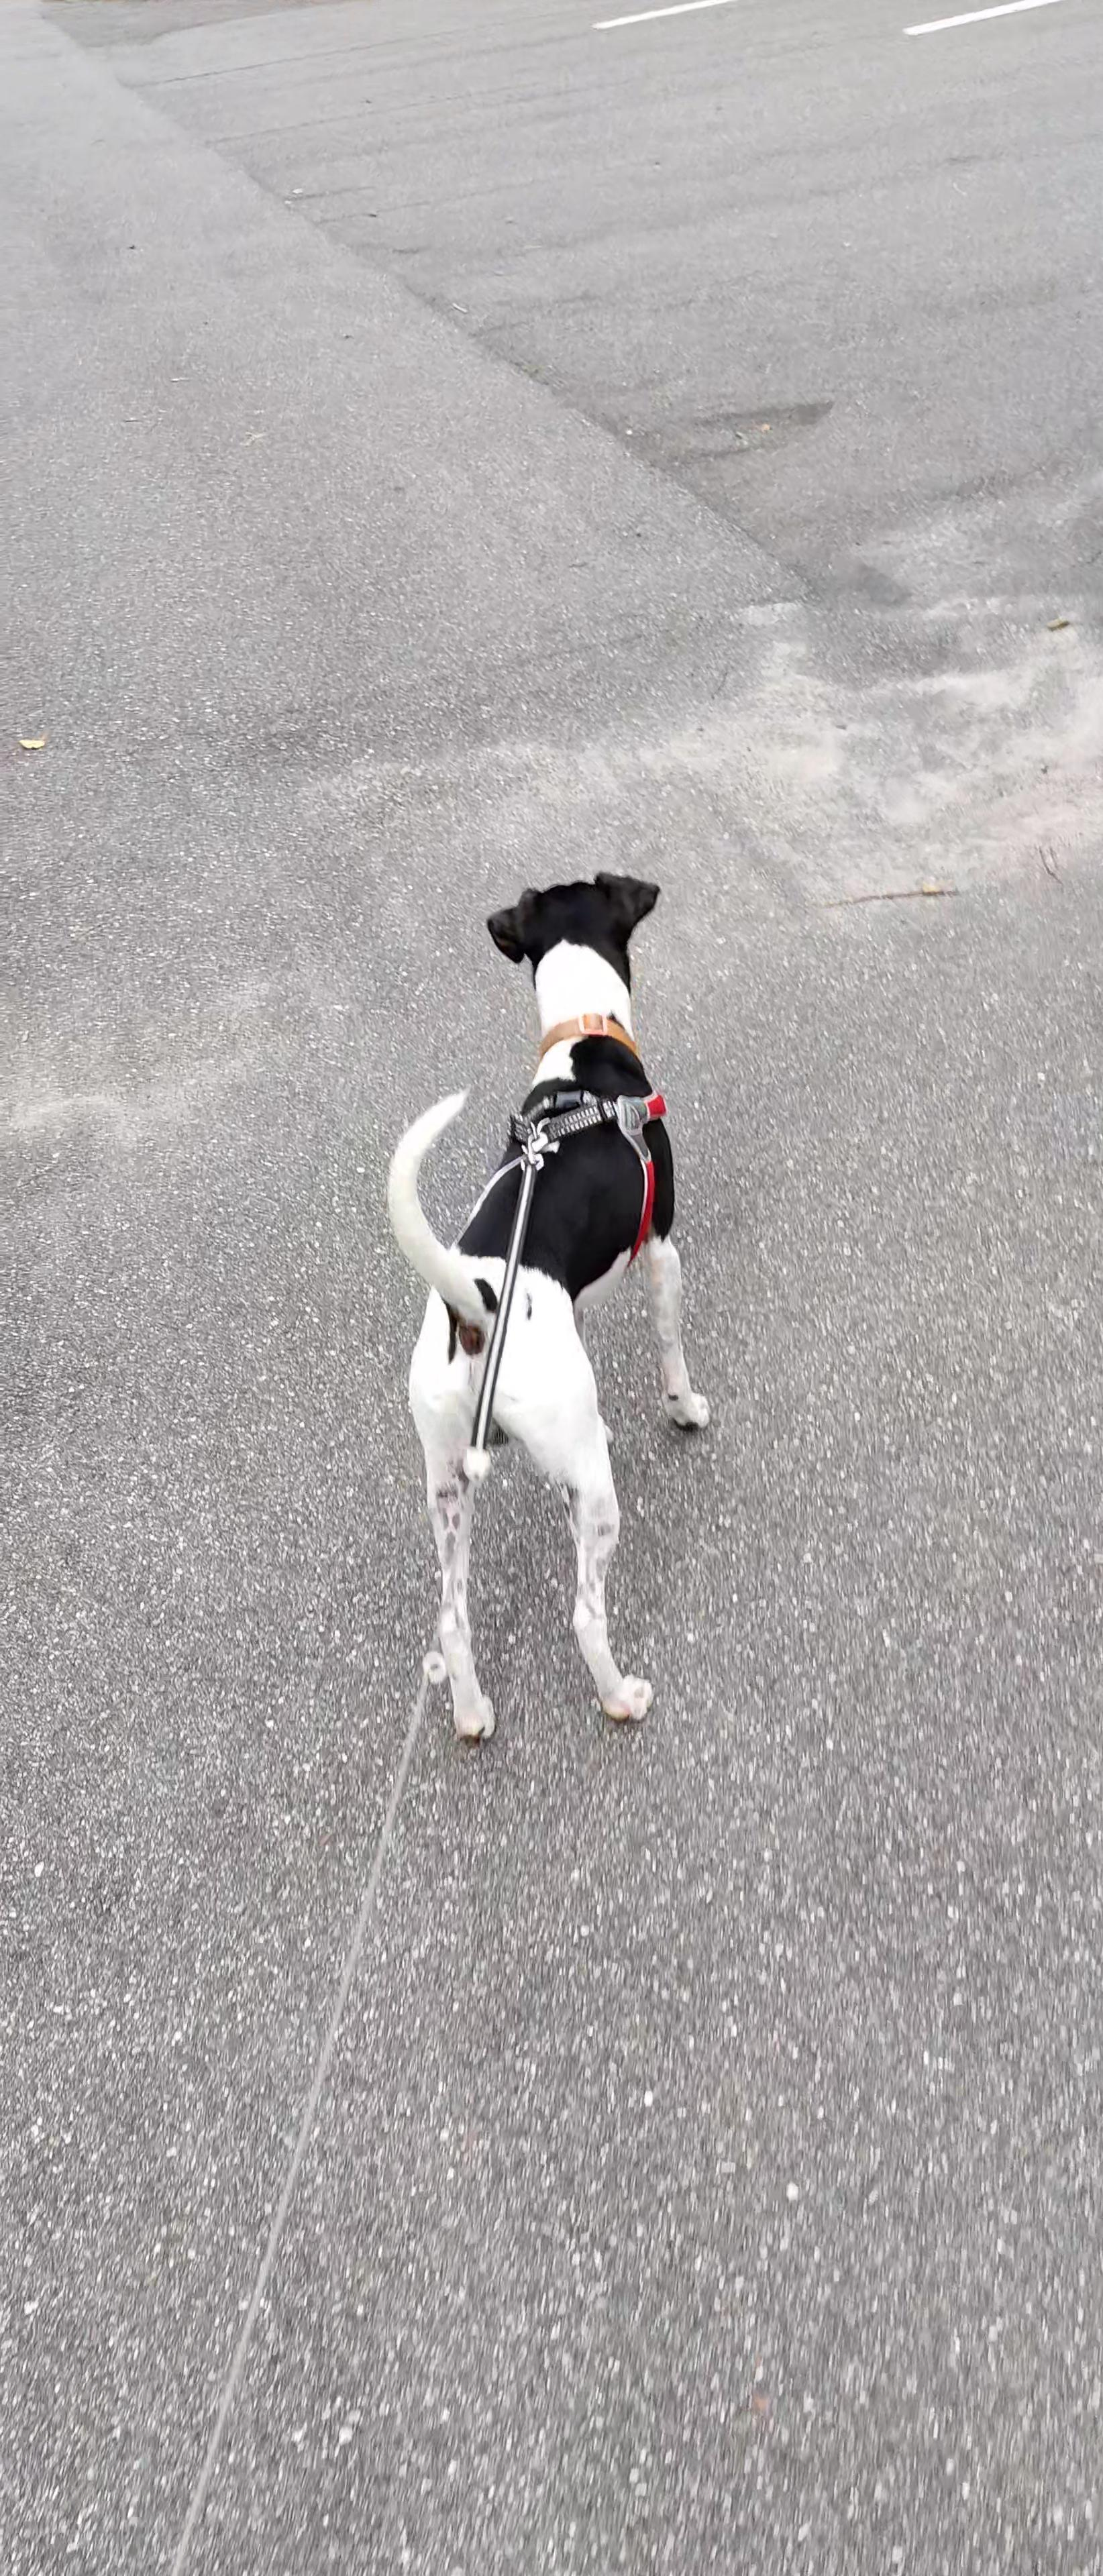Dog: (373, 858, 731, 1751)
